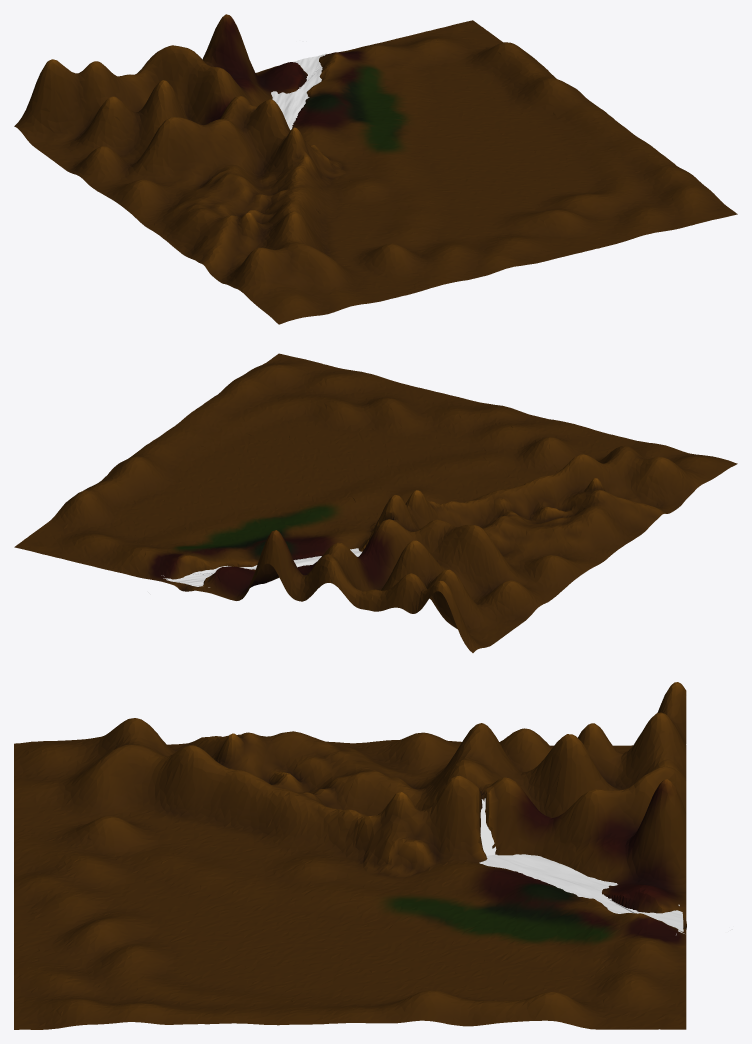
File: terr.fbx
3 views of the same model, one above another, from view 1: azimuth 30°, elevation 25°; view 2: azimuth 150°, elevation 25°; view 3: azimuth 270°, elevation 25° (orthographic). The views are drawn at different scales.
Visible parts, largest first — view 1: Terrain, Plane; view 2: Terrain, Plane; view 3: Terrain, Plane.
Part boxes in pixels (<box>): Terrain: <box>14,14,737,324</box>; Plane: <box>271,41,326,129</box>; Terrain: <box>14,353,737,652</box>; Plane: <box>147,548,362,594</box>; Terrain: <box>14,682,686,1029</box>; Plane: <box>479,854,732,935</box>.
Bounding box in the file's own units: 100030 × 16692 × 107699.
